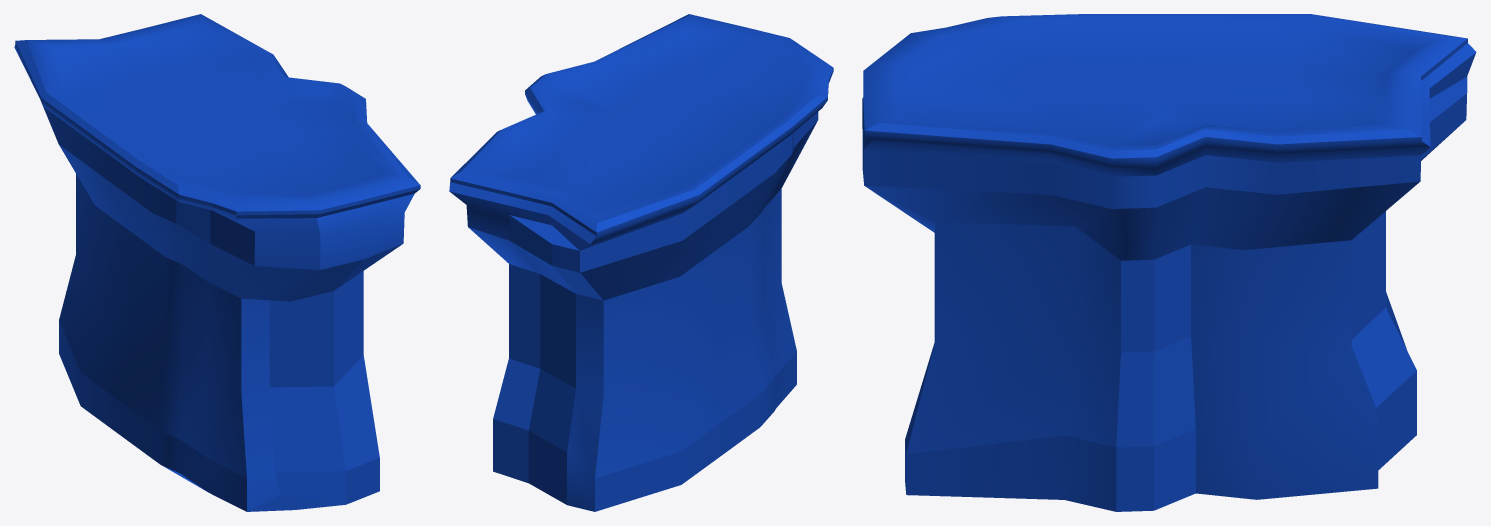
The model's file is DungeonMid1.fbx.
3 renders of one model, left to right at view 1: azimuth 30°, elevation 25°; view 2: azimuth 150°, elevation 25°; view 3: azimuth 270°, elevation 25°, orthographic. The views are drawn at different scales.
Parts seen in each view (by area): view 1: DungeonMideum1; view 2: DungeonMideum1; view 3: DungeonMideum1.
Boxes of the visible parts, x1,y1,x2,y2 form: DungeonMideum1: (14, 14, 420, 511); DungeonMideum1: (449, 14, 833, 511); DungeonMideum1: (862, 14, 1476, 511).
Bounding box in the file's own units: 394 × 714 × 499.
